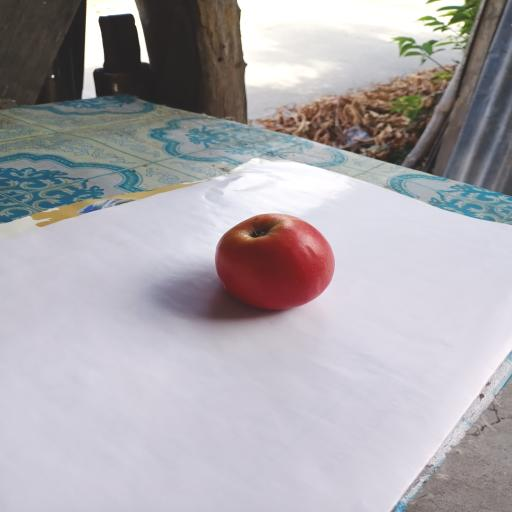apple-ripe: (201, 206, 343, 324)
